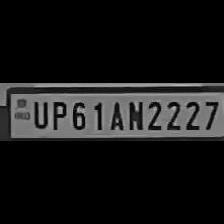1: (88, 98, 106, 130)
2: (144, 98, 162, 132), (182, 97, 200, 130), (164, 97, 181, 130)
6: (68, 98, 88, 130)
7: (201, 98, 219, 130)
A: (105, 98, 124, 130)
N: (125, 97, 143, 131)
P: (48, 98, 68, 130)
U: (29, 97, 49, 129)
